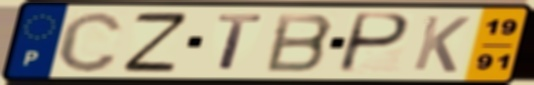B: (262, 12, 337, 74)
C: (54, 9, 127, 75)
K: (409, 14, 474, 75)
P: (334, 11, 413, 76)
T: (215, 12, 267, 73)
Z: (120, 10, 191, 74)
